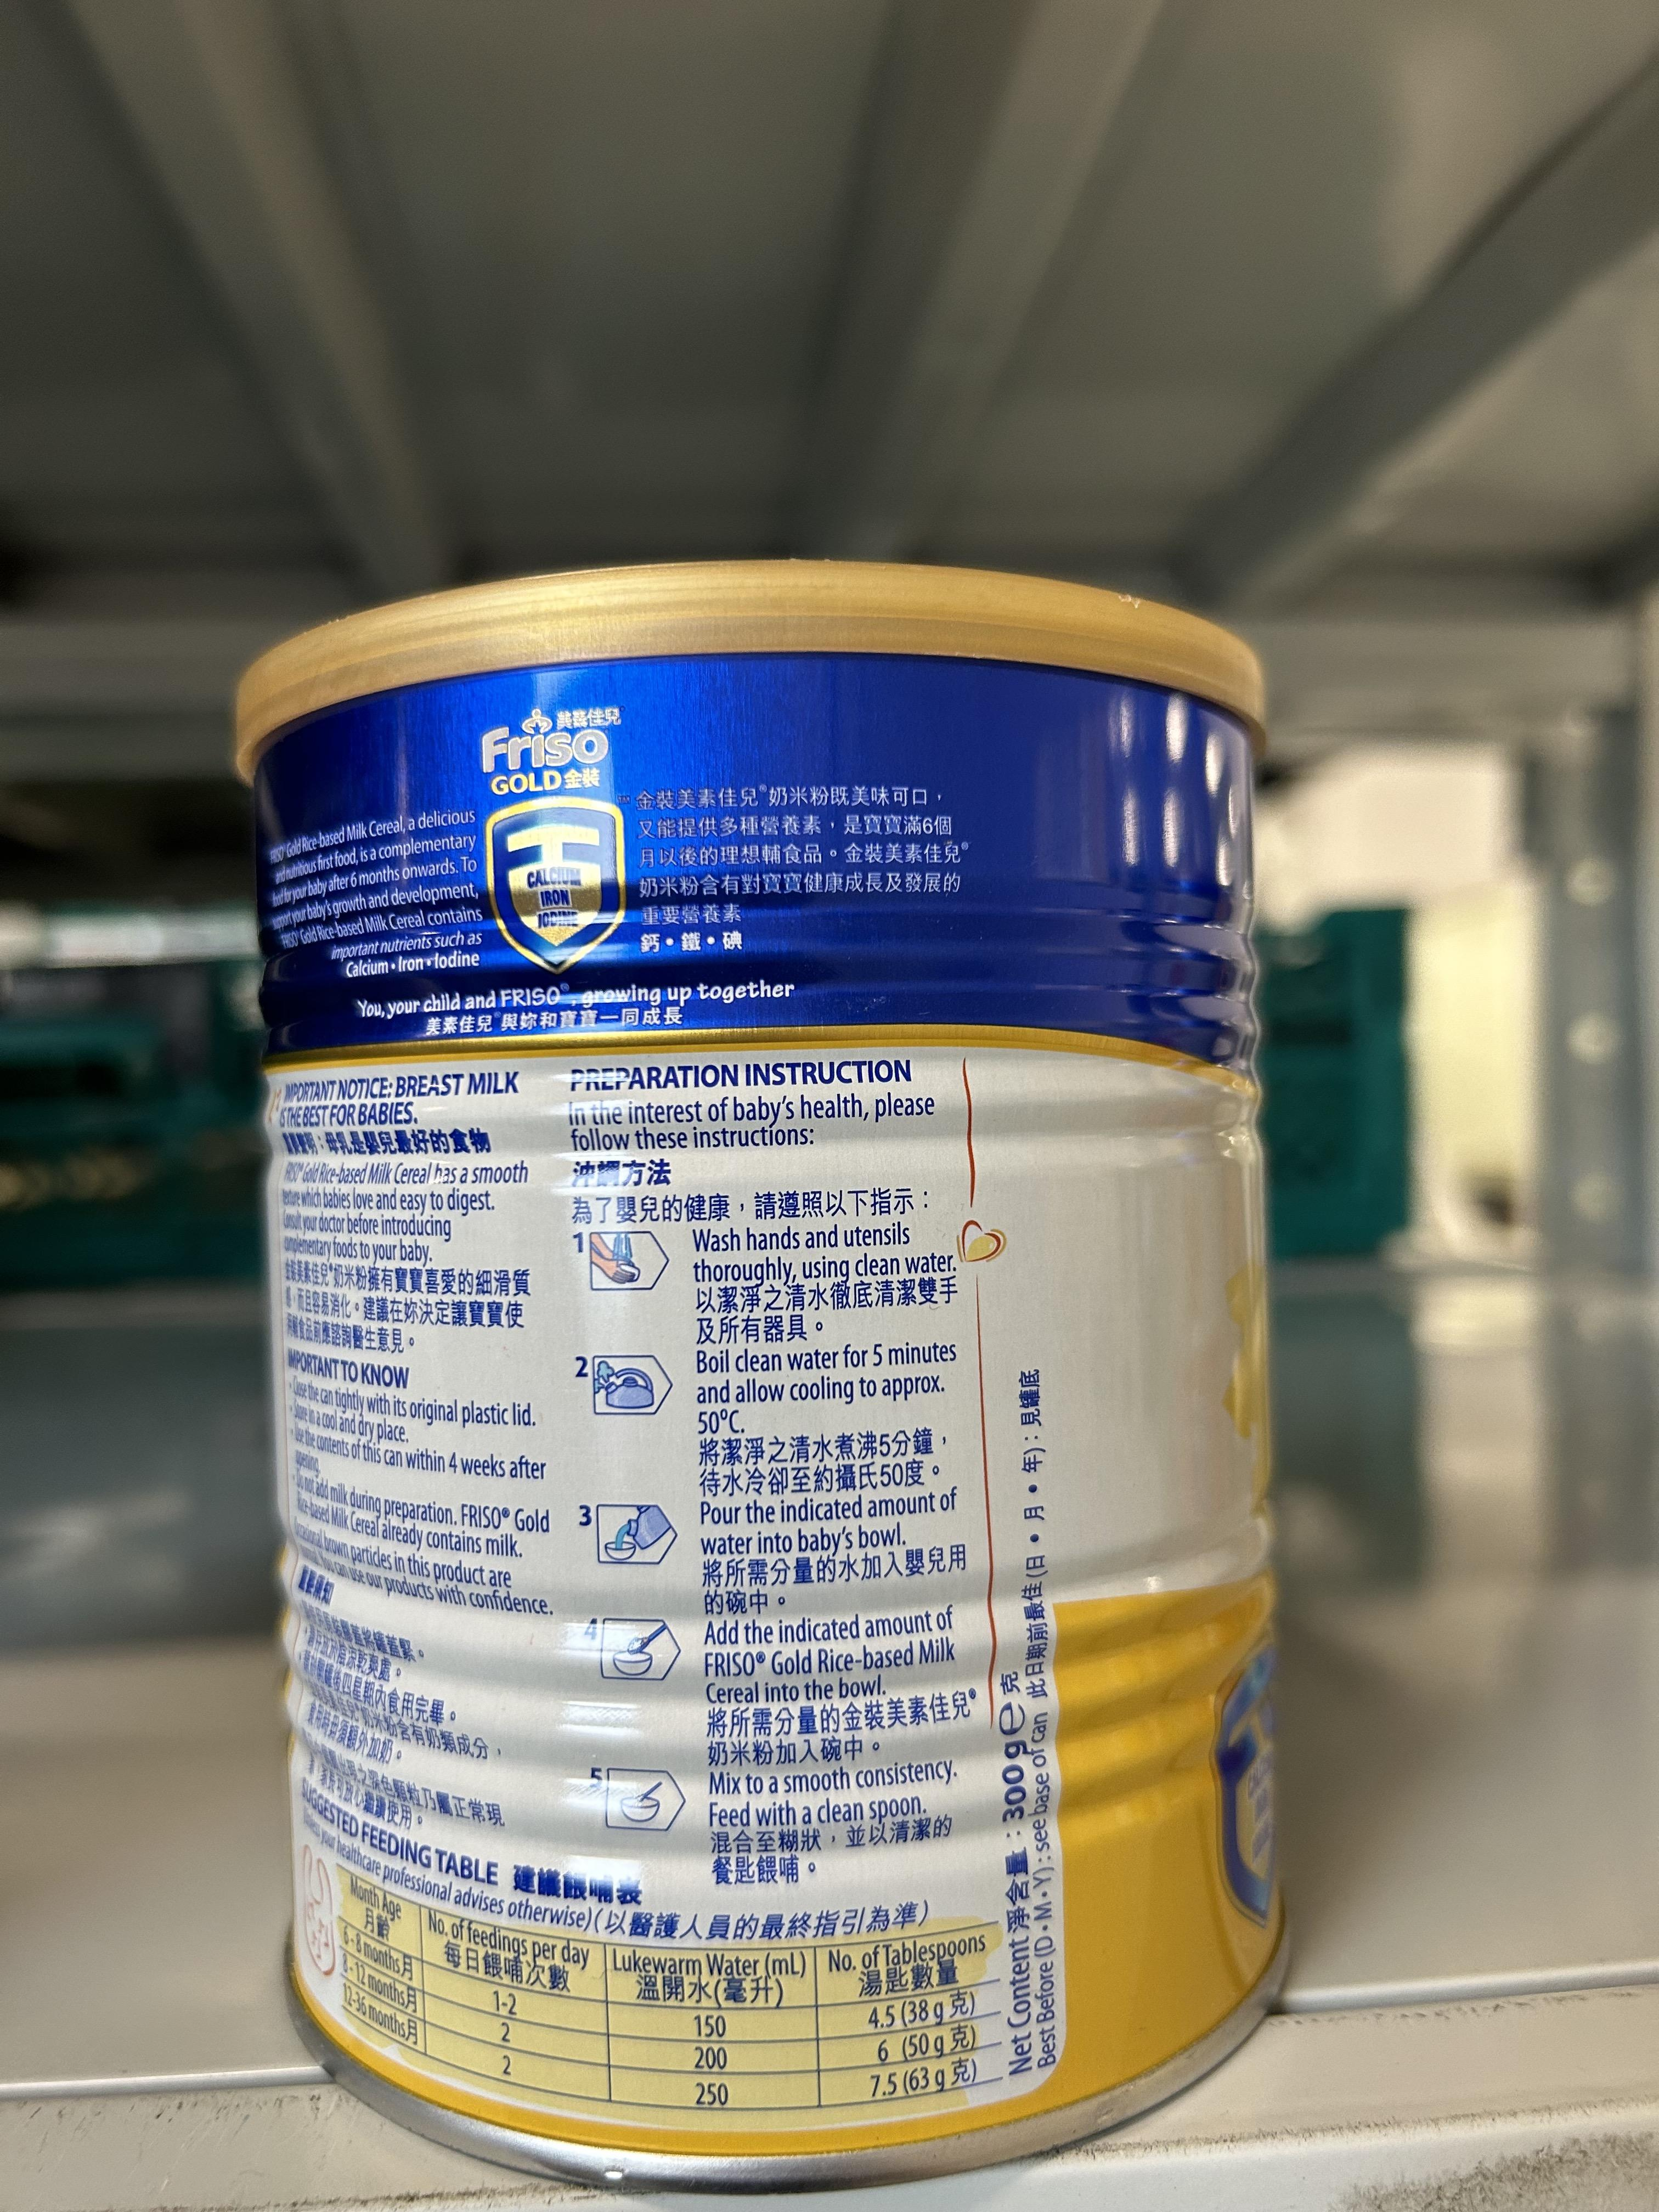object_name: (254, 658, 1279, 2073)
